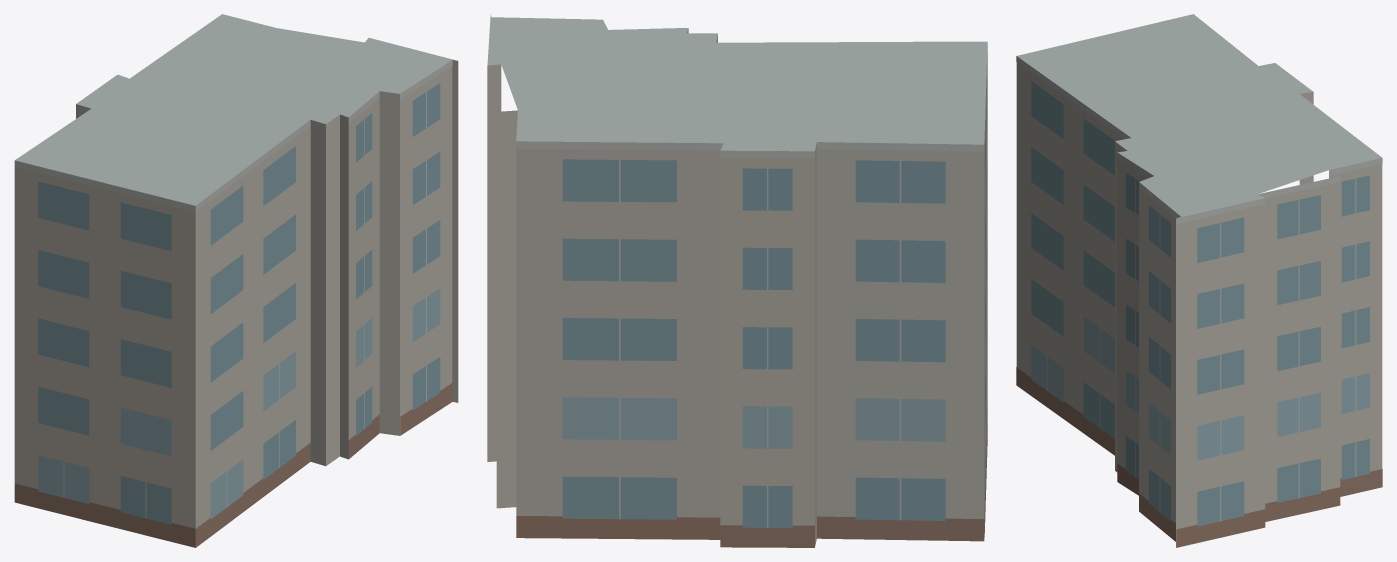
Rendered from survey-upis-32988246.glb.
3 views of the same model, side by side, from view 1: azimuth 30°, elevation 25°; view 2: azimuth 150°, elevation 25°; view 3: azimuth 270°, elevation 25° (orthographic). The views are drawn at different scales.
Visible parts, largest first — view 1: survey-upis-32988246.tmp; view 2: survey-upis-32988246.tmp; view 3: survey-upis-32988246.tmp.
Part boxes in pixels (<box>): survey-upis-32988246.tmp: <box>14,14,458,547</box>; survey-upis-32988246.tmp: <box>487,14,987,547</box>; survey-upis-32988246.tmp: <box>1016,14,1382,547</box>.
Size of the model in its own units: 17.97 by 13.5 by 13.6.
